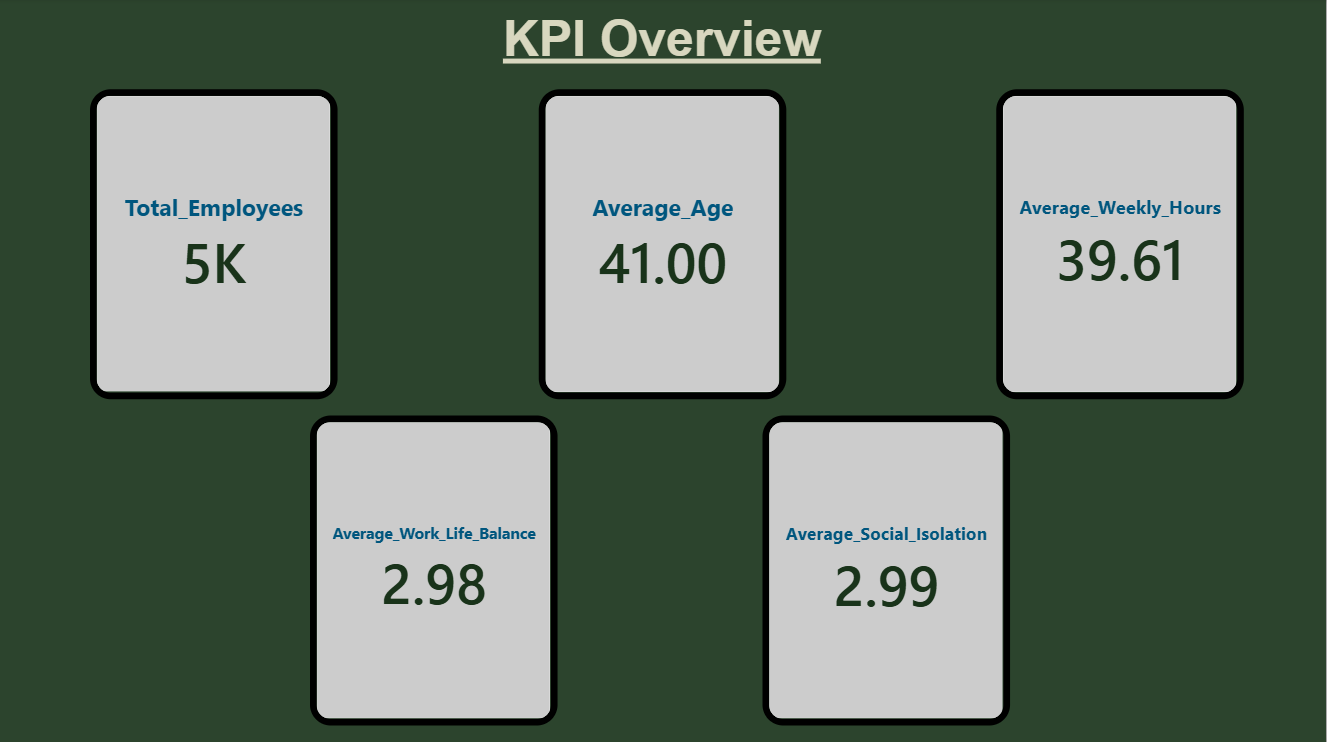

The dashboard page shown, as its layout file describes it:
{"tool":"powerbi","page":{"name":"KPI Overview","canvas":[1920,1080],"ordinal":0},"visuals":[{"type":"cardVisual","fields":{"Data":["Cleaned_Data1.Total_Employees"]},"box":[130.3,132.1,358.1,448.7],"z":0},{"type":"cardVisual","fields":{"Data":["Cleaned_Data1.Average_Age"]},"box":[780,132.1,358,449],"z":1},{"type":"cardVisual","fields":{"Data":["Cleaned_Data1.Average_Weekly_Hours"]},"box":[1442.3,132.1,358,449],"z":2},{"type":"cardVisual","fields":{"Data":["Cleaned_Data1.Average_Work_Life_Balance"]},"box":[448.8,604.4,358,449],"z":3},{"type":"cardVisual","fields":{"Data":["Cleaned_Data1.Average_Social_Isolation"]},"box":[1103.9,604.4,358,449],"z":4},{"type":"textbox","box":[29,18.1,1858.5,114],"z":10}]}

Visuals, with their boxes in screenshot pixels (x1, y1, x2, y2), scaled from the page's 1920x1080 canvas onto the 1327x742 screenshot:
cardVisual - Cleaned_Data1.Total_Employees: 90,91,338,399
cardVisual - Cleaned_Data1.Average_Age: 539,91,787,399
cardVisual - Cleaned_Data1.Average_Weekly_Hours: 997,91,1244,399
cardVisual - Cleaned_Data1.Average_Work_Life_Balance: 310,415,558,724
cardVisual - Cleaned_Data1.Average_Social_Isolation: 763,415,1010,724
textbox: 20,12,1305,91
